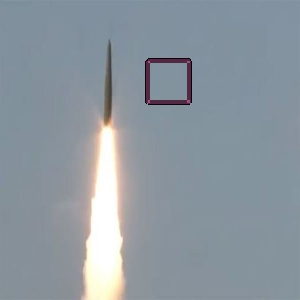square: (143, 57, 193, 106)
